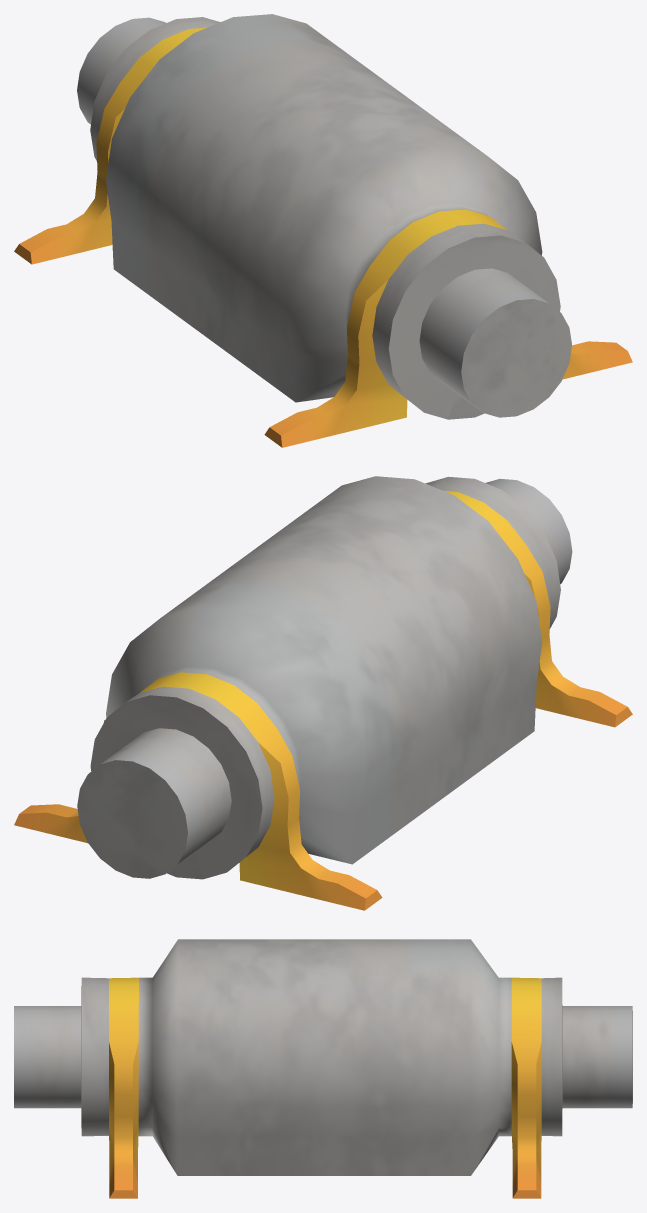
File: Science_Section.fbx
3 renders of one model, top to bottom at view 1: azimuth 30°, elevation 25°; view 2: azimuth 150°, elevation 25°; view 3: azimuth 270°, elevation 25°, orthographic. The views are drawn at different scales.
Parts seen in each view (by area): view 1: Science_section; view 2: Science_section; view 3: Science_section.
Boxes of the visible parts, <box> form: Science_section: <box>14,14,632,447</box>; Science_section: <box>14,476,632,910</box>; Science_section: <box>14,939,632,1198</box>.
Size of the model in its own units: 27.84 by 16.96 by 52.85.
